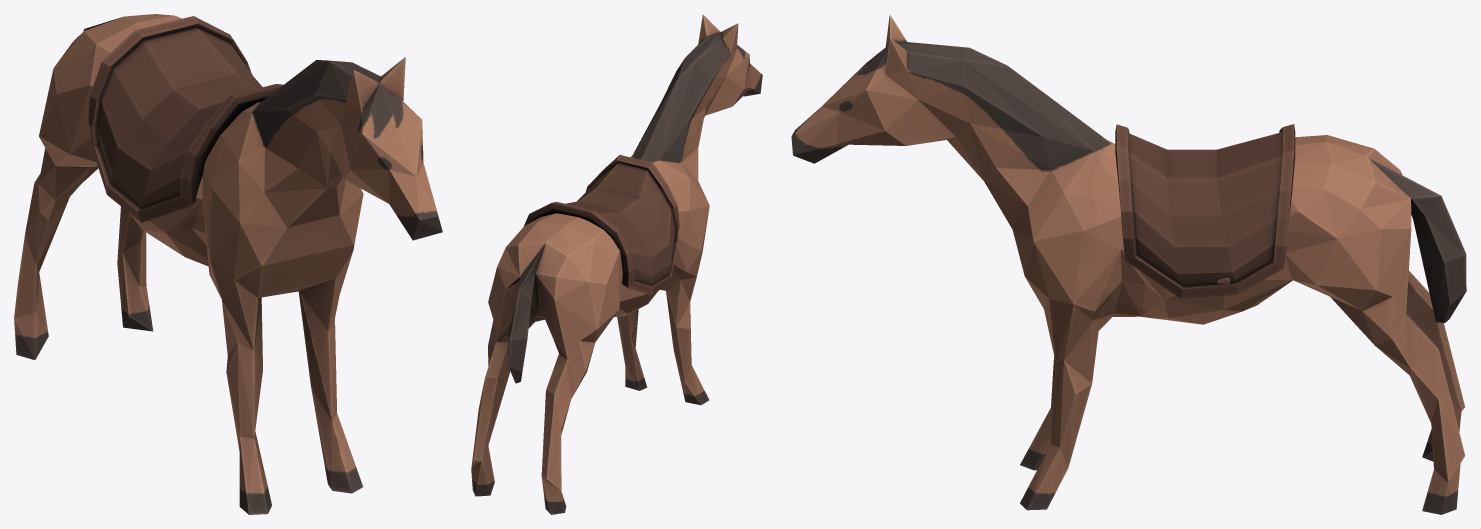
The model's file is Horse.FBX.
3 views of the same model, side by side, from view 1: azimuth 30°, elevation 25°; view 2: azimuth 150°, elevation 25°; view 3: azimuth 270°, elevation 25° (orthographic). The views are drawn at different scales.
Visible parts, largest first — view 1: ddadas002, Box036; view 2: ddadas002, Box036; view 3: ddadas002, Box036.
Part boxes in pixels (box(x1,y1,x2,y2)): ddadas002: box(14, 14, 442, 514); Box036: box(88, 16, 283, 222); ddadas002: box(471, 14, 762, 514); Box036: box(524, 155, 679, 294); ddadas002: box(791, 14, 1466, 514); Box036: box(1115, 124, 1295, 298).
Bounding box in the file's own units: 24.47 × 65.92 × 87.91.
